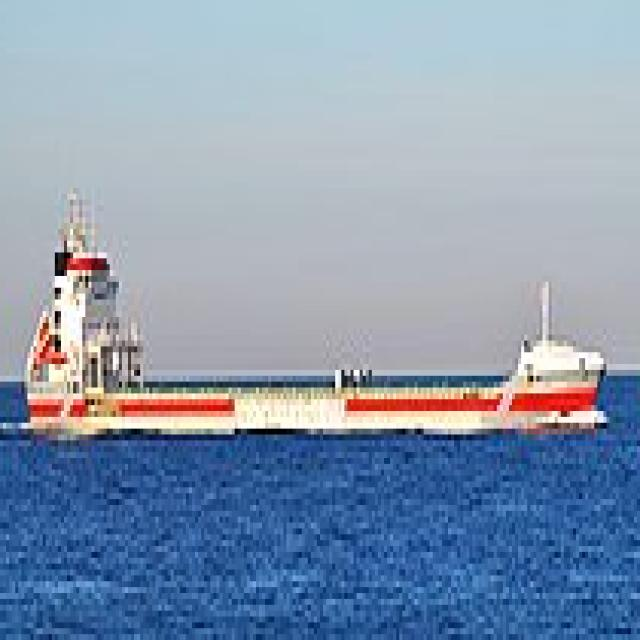Cargo: (25, 177, 612, 440)
